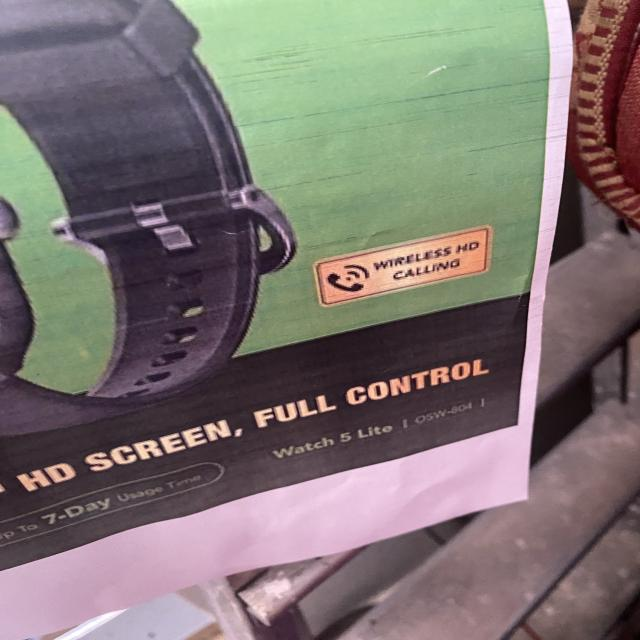Watch 5 Lite OSW-804: (267, 390, 508, 467)
